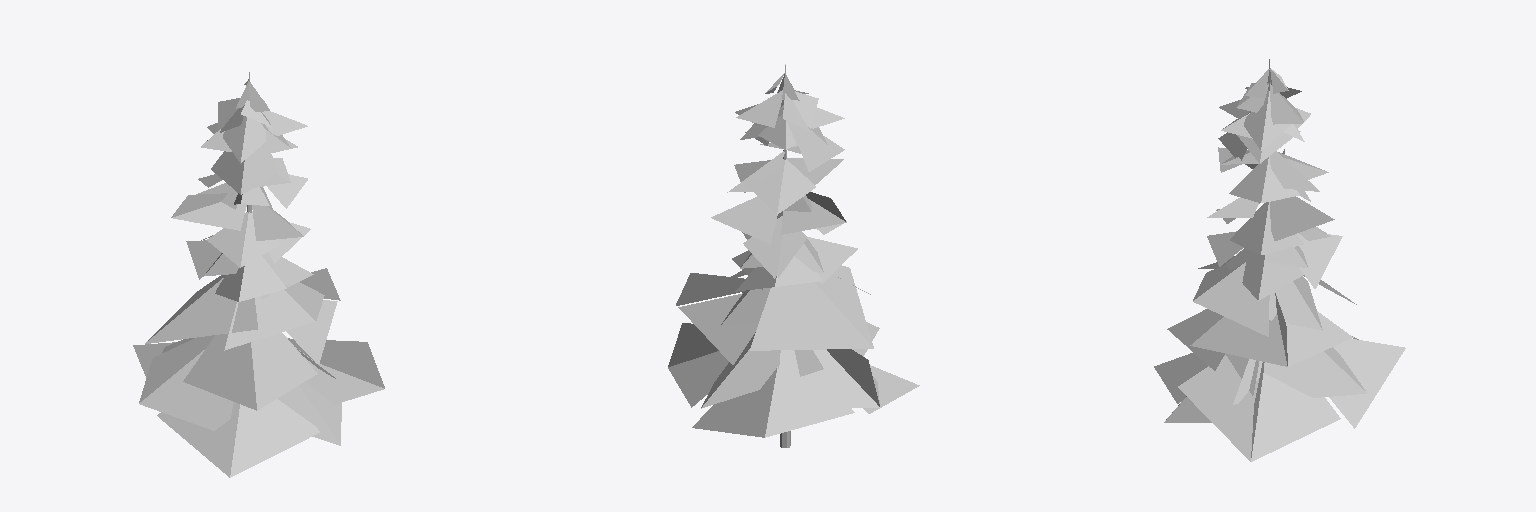
Rendered from tree.obj.
3 views of the same model, side by side, from view 1: azimuth 30°, elevation 25°; view 2: azimuth 150°, elevation 25°; view 3: azimuth 270°, elevation 25° (orthographic).
Visible parts, largest first — view 1: trees_elka_1_02_1; view 2: trees_elka_1_02_1; view 3: trees_elka_1_02_1.
Part boxes in pixels (x1,y1,x2,y2): trees_elka_1_02_1: (133,72,384,477); trees_elka_1_02_1: (668,64,919,447); trees_elka_1_02_1: (1154,59,1405,461).
Bounding box in the file's own units: 5.6 × 8.9 × 5.33.